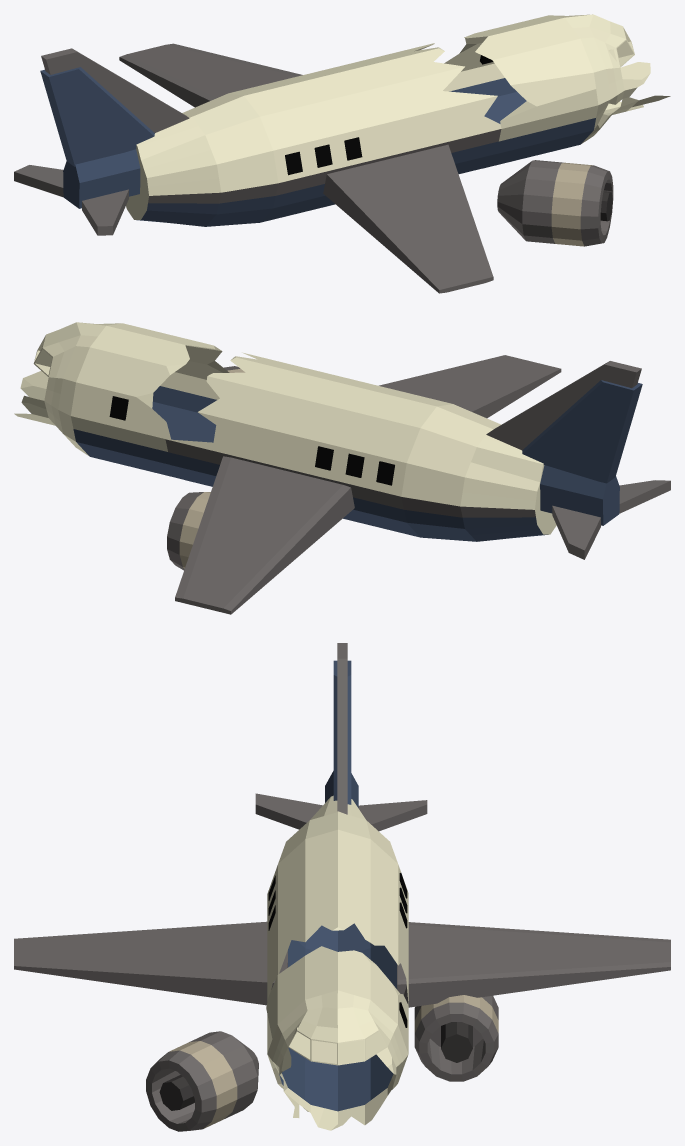
The picture shows the model from 3 angles, top to bottom: view 1: azimuth 30°, elevation 25°; view 2: azimuth 150°, elevation 25°; view 3: azimuth 270°, elevation 25°; orthographic projection. The views are drawn at different scales.
Visible parts, largest first — view 1: Cube.050, Cube.052, Cube.058, Cube.049, Cube.061, Cube.057, Cube.054, Cube.056, Cube.055; view 2: Cube.050, Cube.052, Cube.057, Cube.049, Cube.058, Cube.054, Cube.053, Cube.055, Cube.056; view 3: Cube.052, Cube.050, Cube.057, Cube.058, Cube.061, Cube.053, Cube.049, Cube.056, Cube.055, Cube.059, Cube.060.
Part boxes in pixels (bbox=[...]): Cube.050: bbox=[126, 43, 501, 226]; Cube.052: bbox=[443, 14, 670, 168]; Cube.058: bbox=[323, 144, 493, 293]; Cube.049: bbox=[40, 48, 189, 166]; Cube.061: bbox=[497, 160, 613, 246]; Cube.057: bbox=[119, 43, 302, 107]; Cube.054: bbox=[63, 149, 140, 208]; Cube.056: bbox=[82, 189, 128, 235]; Cube.055: bbox=[14, 165, 63, 197]; Cube.050: bbox=[165, 352, 556, 541]; Cube.052: bbox=[14, 322, 229, 479]; Cube.057: bbox=[175, 456, 354, 614]; Cube.049: bbox=[486, 361, 642, 483]; Cube.058: bbox=[379, 355, 561, 418]; Cube.054: bbox=[540, 465, 619, 525]; Cube.053: bbox=[167, 492, 210, 570]; Cube.055: bbox=[552, 505, 600, 559]; Cube.056: bbox=[619, 480, 670, 513]; Cube.052: bbox=[266, 946, 408, 1130]; Cube.050: bbox=[267, 795, 408, 1071]; Cube.057: bbox=[397, 922, 670, 1007]; Cube.058: bbox=[14, 921, 287, 1005]; Cube.061: bbox=[146, 1031, 258, 1131]; Cube.053: bbox=[414, 995, 498, 1081]; Cube.049: bbox=[333, 643, 351, 814]; Cube.056: bbox=[255, 793, 322, 829]; Cube.055: bbox=[358, 800, 427, 831]; Cube.059: bbox=[441, 1022, 472, 1062]; Cube.060: bbox=[159, 1075, 194, 1110].
Bounding box in the file's own units: 31.79 × 12.28 × 29.19.
